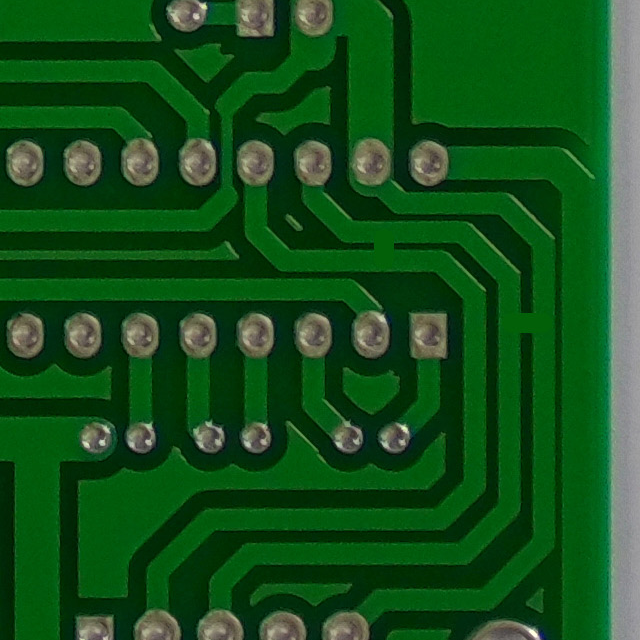short: (349, 211, 420, 278), (495, 287, 562, 354)
